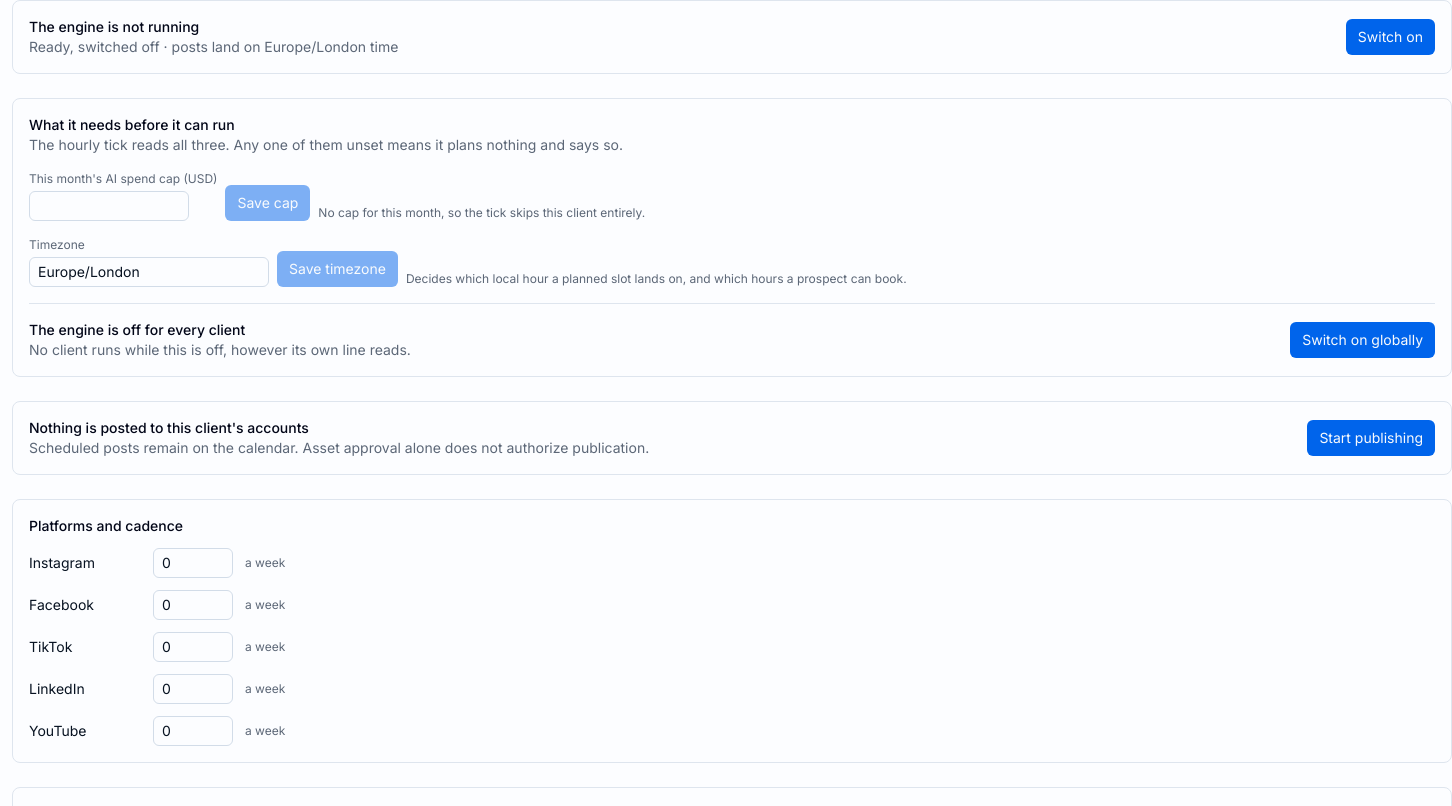
Scenario: the switch › surfaces a refusal from the database rather than looking switched on
This screenshot has width=1452, height=806.
Click the button "Switch on". click: coordinates (1390, 37)
box: [1346,19,1435,55]
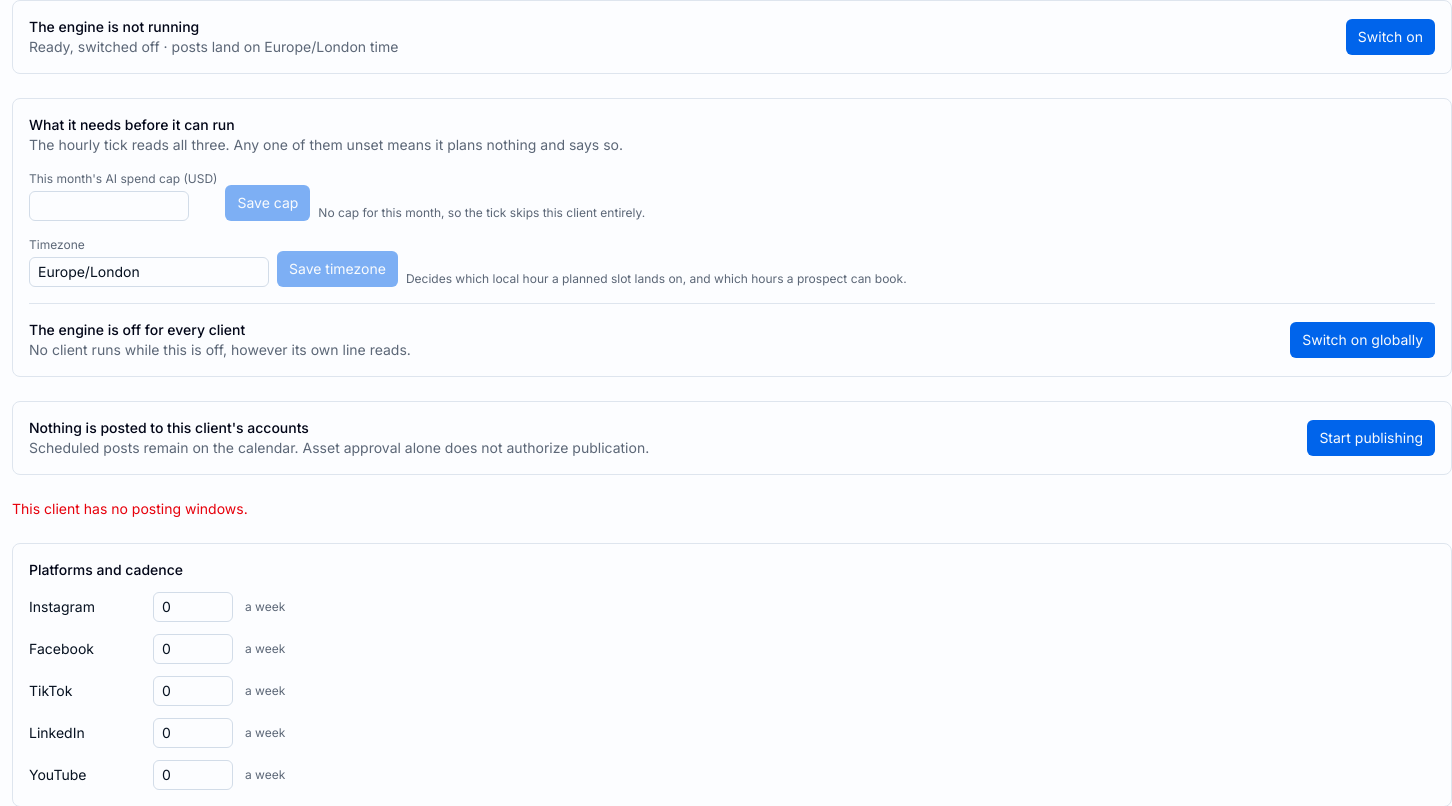
expect the message shows "no posting windows": met, box [12,500,248,517]
